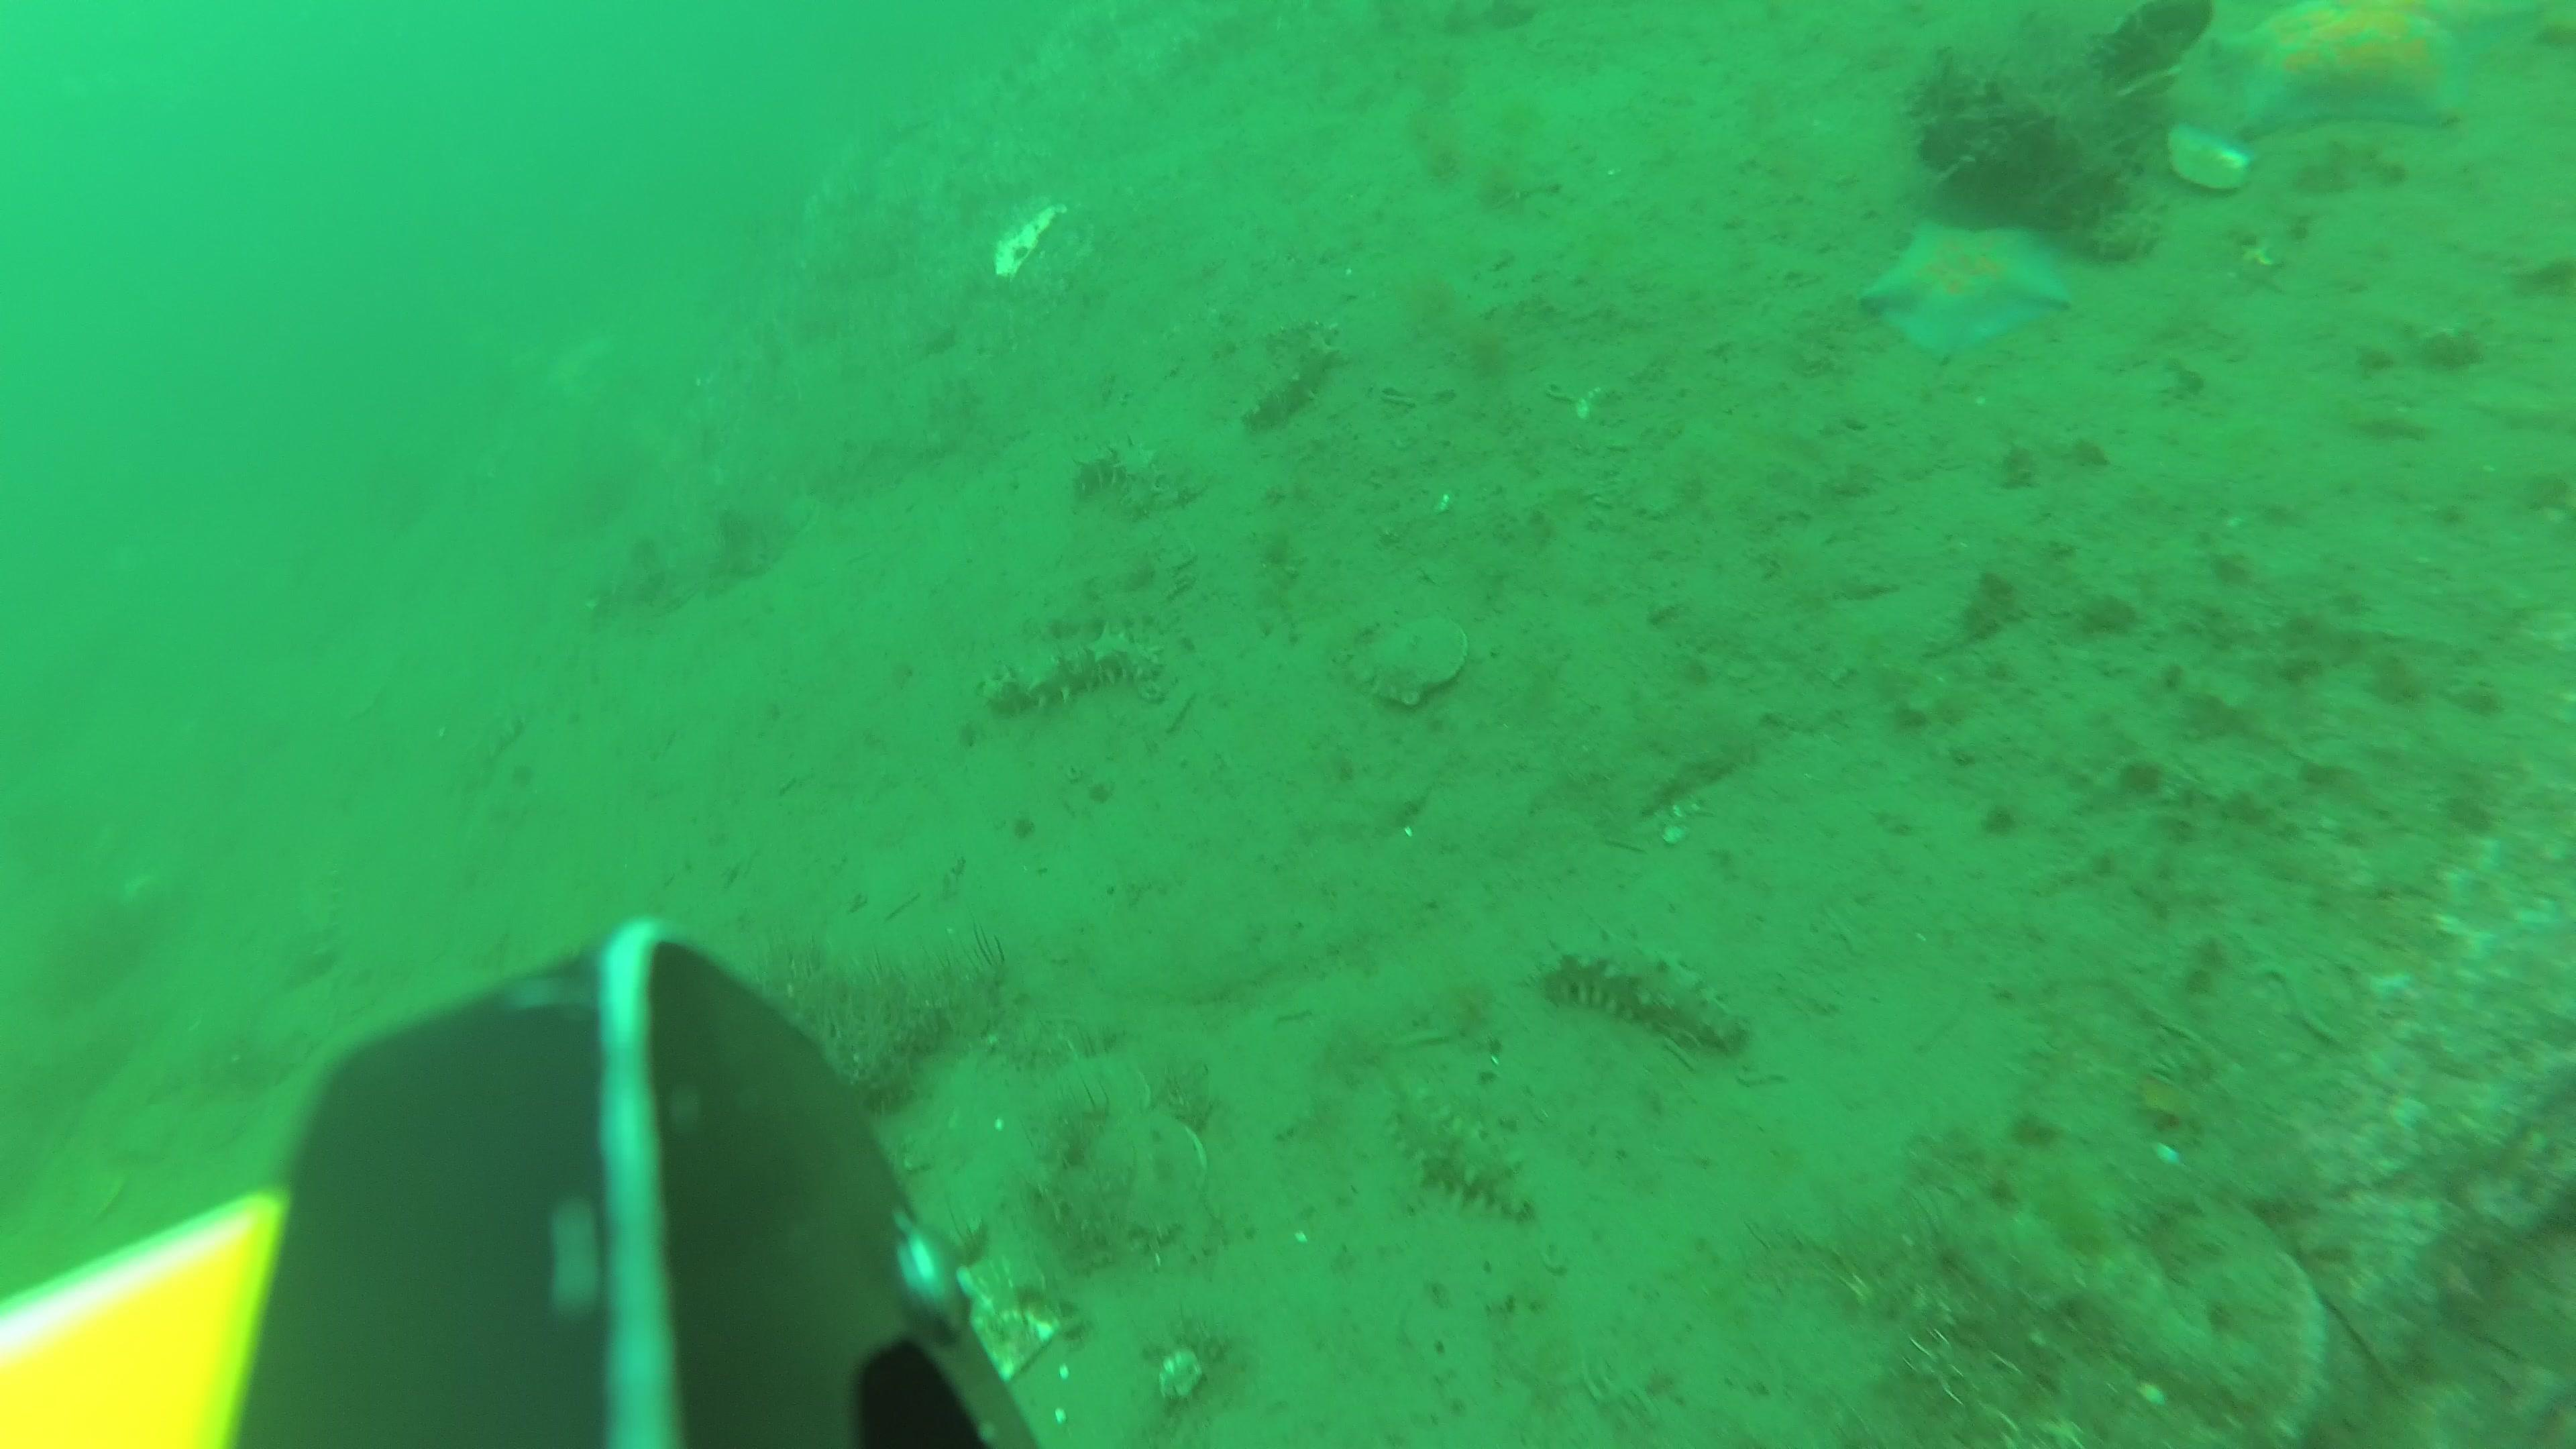holothurian: (1548, 931, 1753, 1058), (1389, 1083, 1529, 1214), (978, 626, 1159, 713), (1244, 322, 1330, 432), (294, 855, 345, 978), (456, 708, 525, 800), (1074, 444, 1162, 515)
scallop: (1074, 1113, 1205, 1253), (941, 1254, 1058, 1380), (1042, 1056, 1157, 1182), (1355, 617, 1470, 706), (2097, 0, 2215, 83), (2169, 117, 2254, 195)
starfish: (2215, 0, 2465, 134), (1877, 221, 2068, 364), (2392, 0, 2548, 62)
